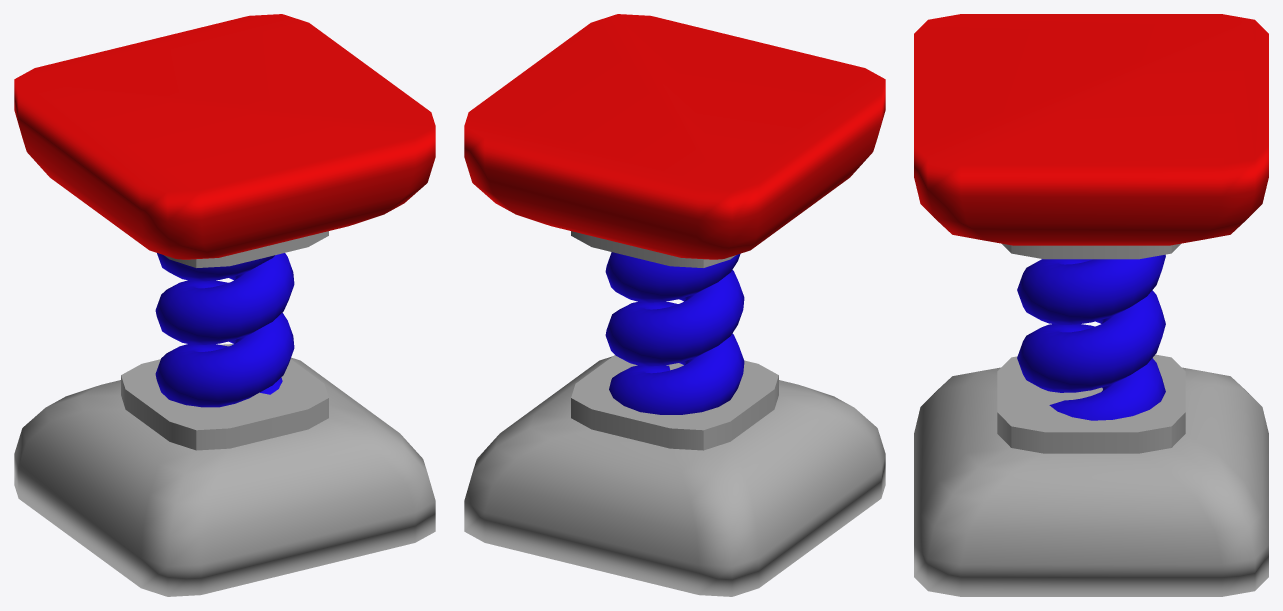
The model's file is springnew-2.fbx.
3 views of the same model, side by side, from view 1: azimuth 30°, elevation 25°; view 2: azimuth 150°, elevation 25°; view 3: azimuth 270°, elevation 25° (orthographic). The views are drawn at different scales.
Visible parts, largest first — view 1: Top, Bottom, pHelix1; view 2: Top, Bottom, pHelix1; view 3: Top, Bottom, pHelix1.
Part boxes in pixels (x1=…): Top: x1=14, y1=14, x2=435, y2=267; Bottom: x1=14, y1=344, x2=435, y2=596; pHelix1: x1=155, y1=253, x2=294, y2=407; Top: x1=464, y1=14, x2=885, y2=267; Bottom: x1=464, y1=355, x2=885, y2=596; pHelix1: x1=605, y1=252, x2=744, y2=414; Top: x1=914, y1=14, x2=1268, y2=259; Bottom: x1=914, y1=354, x2=1268, y2=596; pHelix1: x1=1017, y1=254, x2=1165, y2=420.
Bounding box in the file's own units: 3 × 4 × 2.98.
